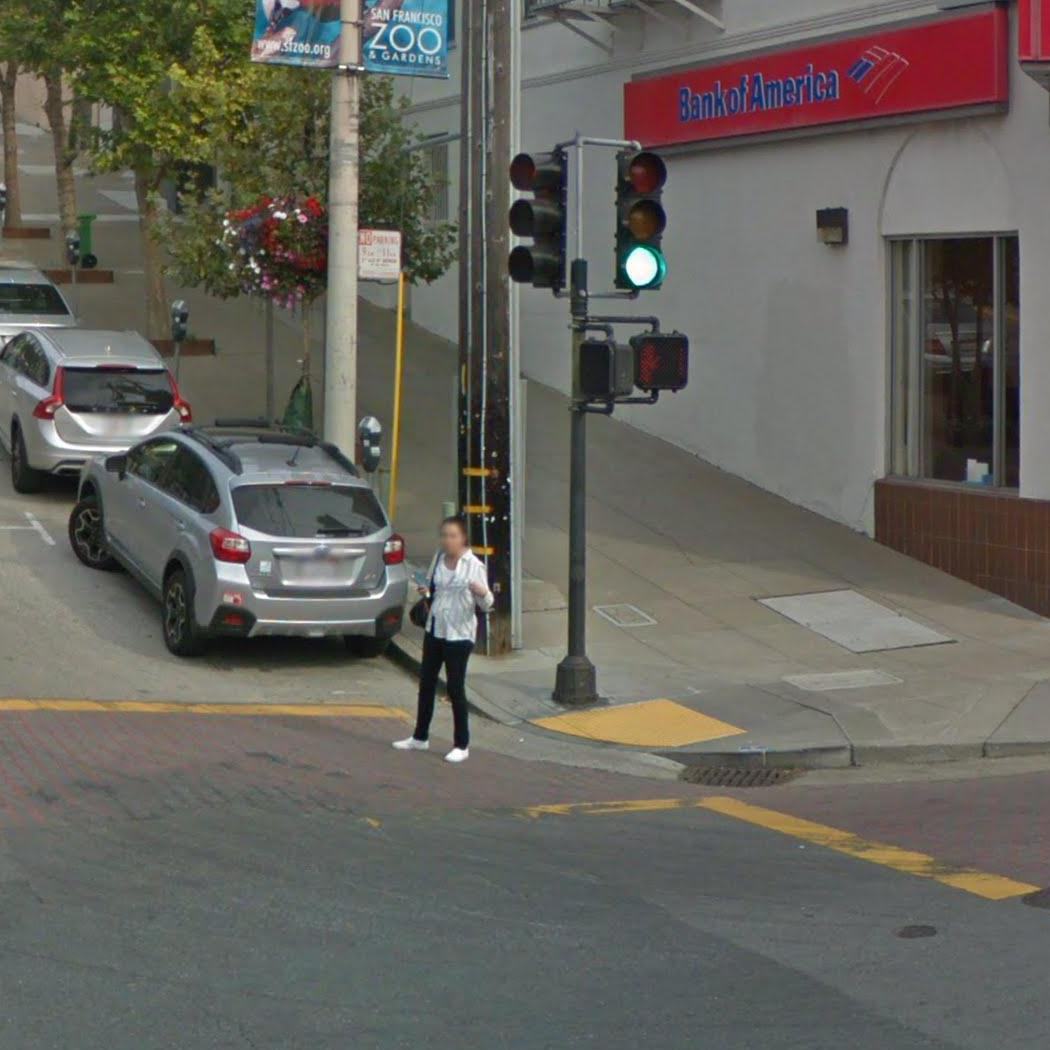No Parking: (354, 227, 404, 283)
